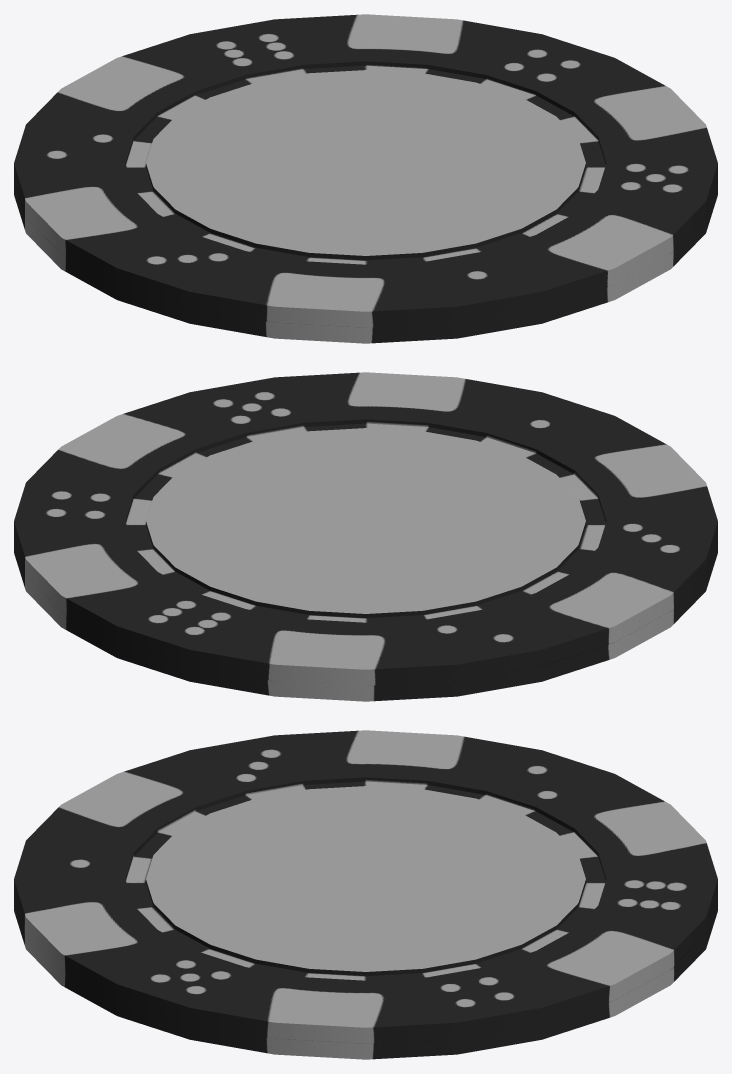
File: chipp.glb
3 views of the same model, one above another, from view 1: azimuth 30°, elevation 25°; view 2: azimuth 150°, elevation 25°; view 3: azimuth 270°, elevation 25° (orthographic).
Visible parts, largest first — view 1: low; view 2: low; view 3: low.
Boxes of the visible parts, x1,y1,x2,y2 form: low: [14, 14, 717, 343]; low: [14, 372, 717, 701]; low: [14, 730, 717, 1059].
Size of the model in its own units: 0.0391 by 0.00195 by 0.0391.
2 materials, 1 textured.
